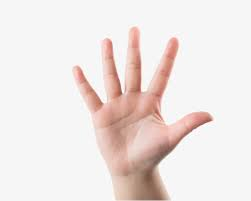palm: (67, 23, 217, 178)
